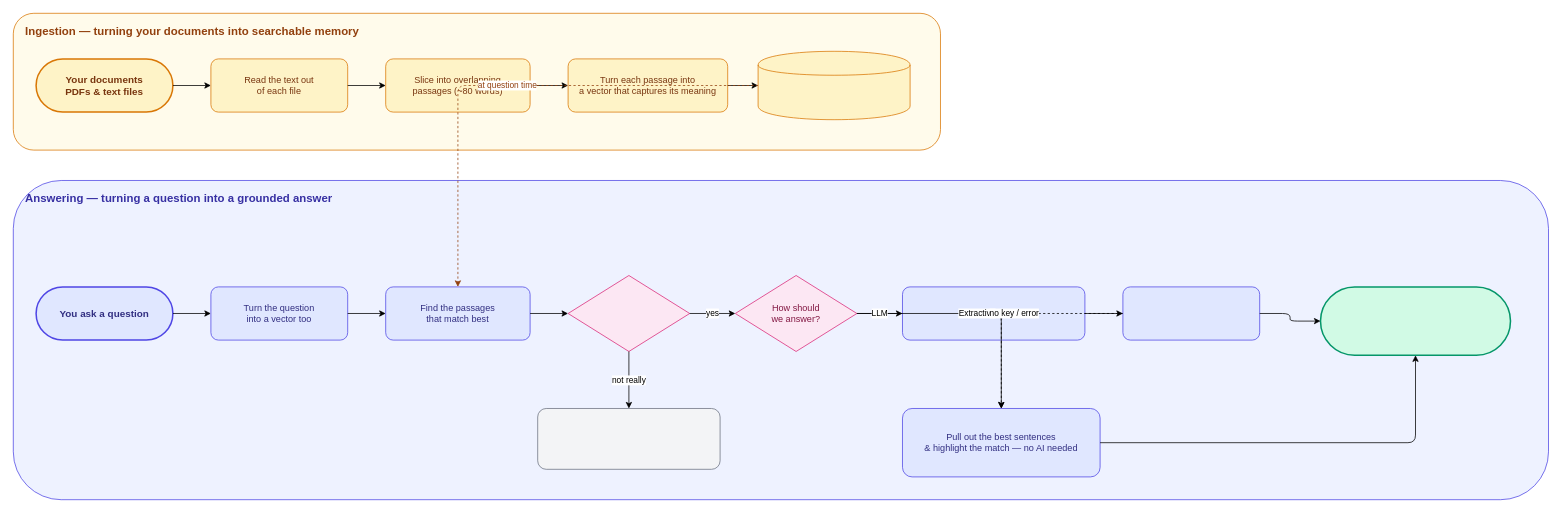
The diagram is 1562 pixels wide and 513 high, and some of its shapes have lost their labels. The shapes that lost their labels are listed below. From the top down, each one's centre as x and y in pixels, then its label:
At (833,85): "Searchable memory (FAISS vector index)".
At (628,313): "Relevant enough?".
At (993,313): "Hand the passages to an AI with instructions to stick to them".
At (1191,313): "Gemini writes the answer".
At (1415,321): "Answer, with sources you can go check yourself".
At (628,438): "Say so honestly: ‘nothing relevant found’".
